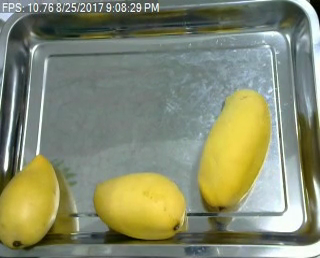Mango: (196, 88, 274, 215), (91, 169, 188, 243), (0, 153, 63, 250)
